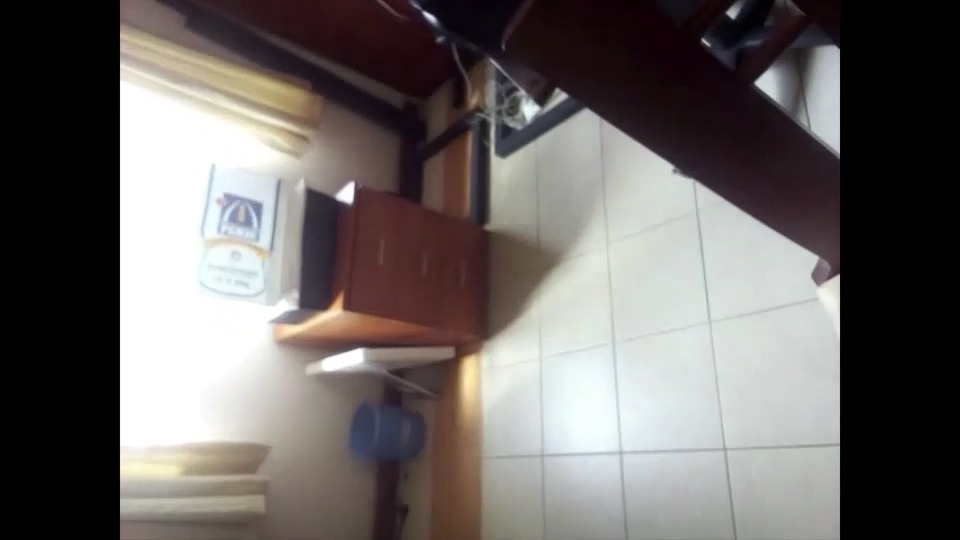wheat_flour_blue_label: (193, 157, 293, 310)
